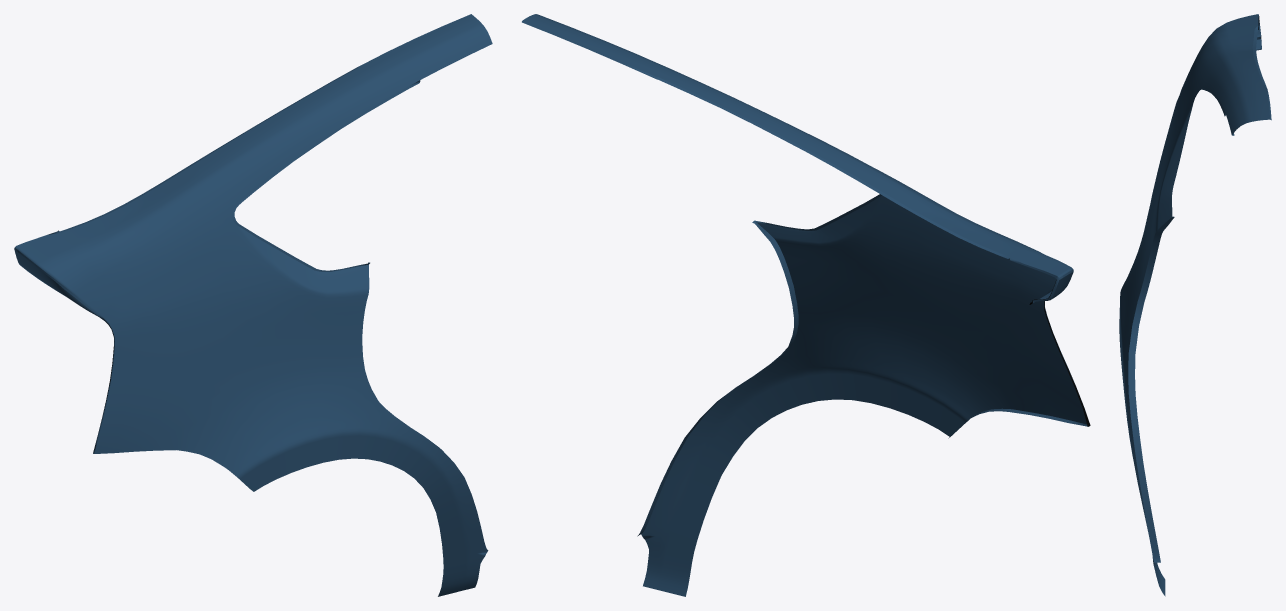
3 views of the same model, side by side, from view 1: azimuth 30°, elevation 25°; view 2: azimuth 150°, elevation 25°; view 3: azimuth 270°, elevation 25° (orthographic). The views are drawn at different scales.
Visible parts, largest first — view 1: Y191_13_401B_R_1_DaS_Y191_13_401B_R, Y191_13_401B_R_1_DaS_Y191_13_401B_R_E; view 2: Y191_13_401B_R_1_DaS_Y191_13_401B_R, Y191_13_401B_R_1_DaS_Y191_13_401B_R_E; view 3: Y191_13_401B_R_1_DaS_Y191_13_401B_R, Y191_13_401B_R_1_DaS_Y191_13_401B_R_E.
Boxes of the visible parts, box(x1,y1,x2,y2) form: Y191_13_401B_R_1_DaS_Y191_13_401B_R: box(14, 14, 492, 596); Y191_13_401B_R_1_DaS_Y191_13_401B_R_E: box(14, 67, 441, 490); Y191_13_401B_R_1_DaS_Y191_13_401B_R: box(523, 14, 1086, 596); Y191_13_401B_R_1_DaS_Y191_13_401B_R_E: box(522, 20, 1089, 536); Y191_13_401B_R_1_DaS_Y191_13_401B_R: box(1119, 14, 1269, 596); Y191_13_401B_R_1_DaS_Y191_13_401B_R_E: box(1128, 15, 1271, 562).
Bounding box in the file's own units: 109 × 117 × 32.14.
